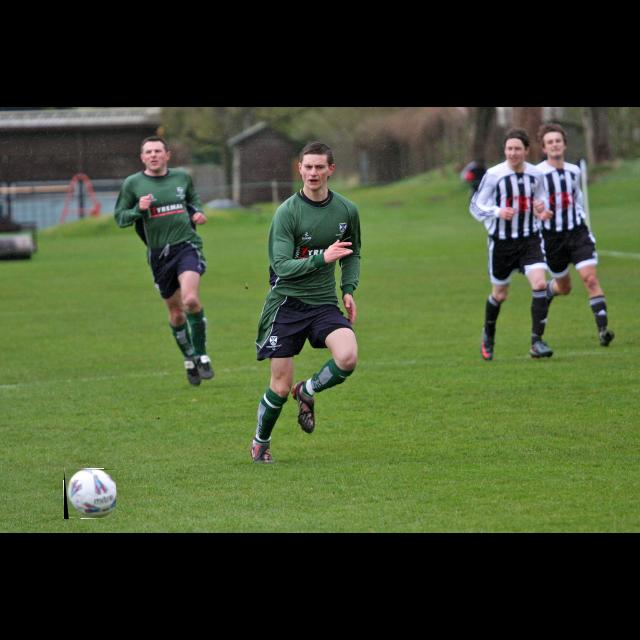Football: (64, 469, 116, 519)
